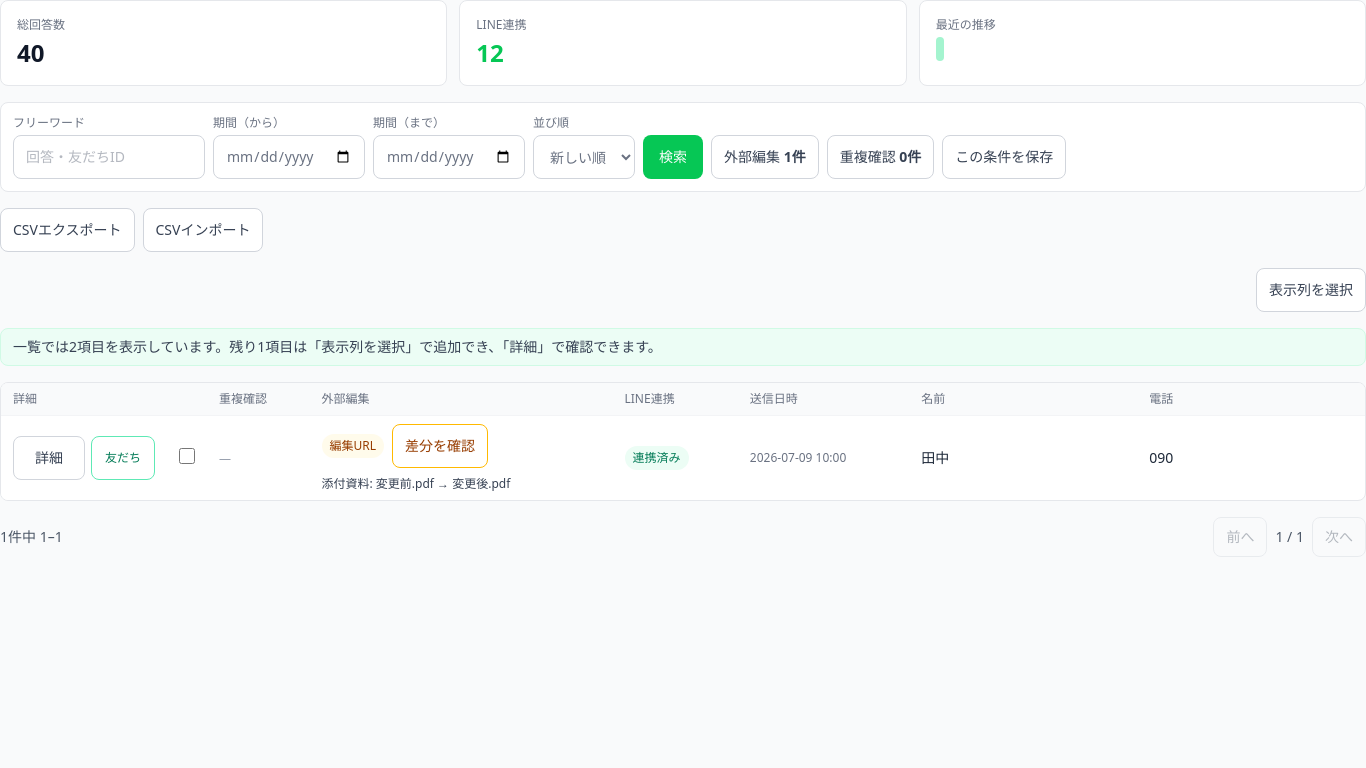
Test: DataCockpit — 外部編集レビュー (D-3) › 添付差分はファイル名だけを表示し、内部保存キーを表示しない
Click the button with aria-label "s1 の外部編集を確認" at (440, 446), box [392,424,488,468]
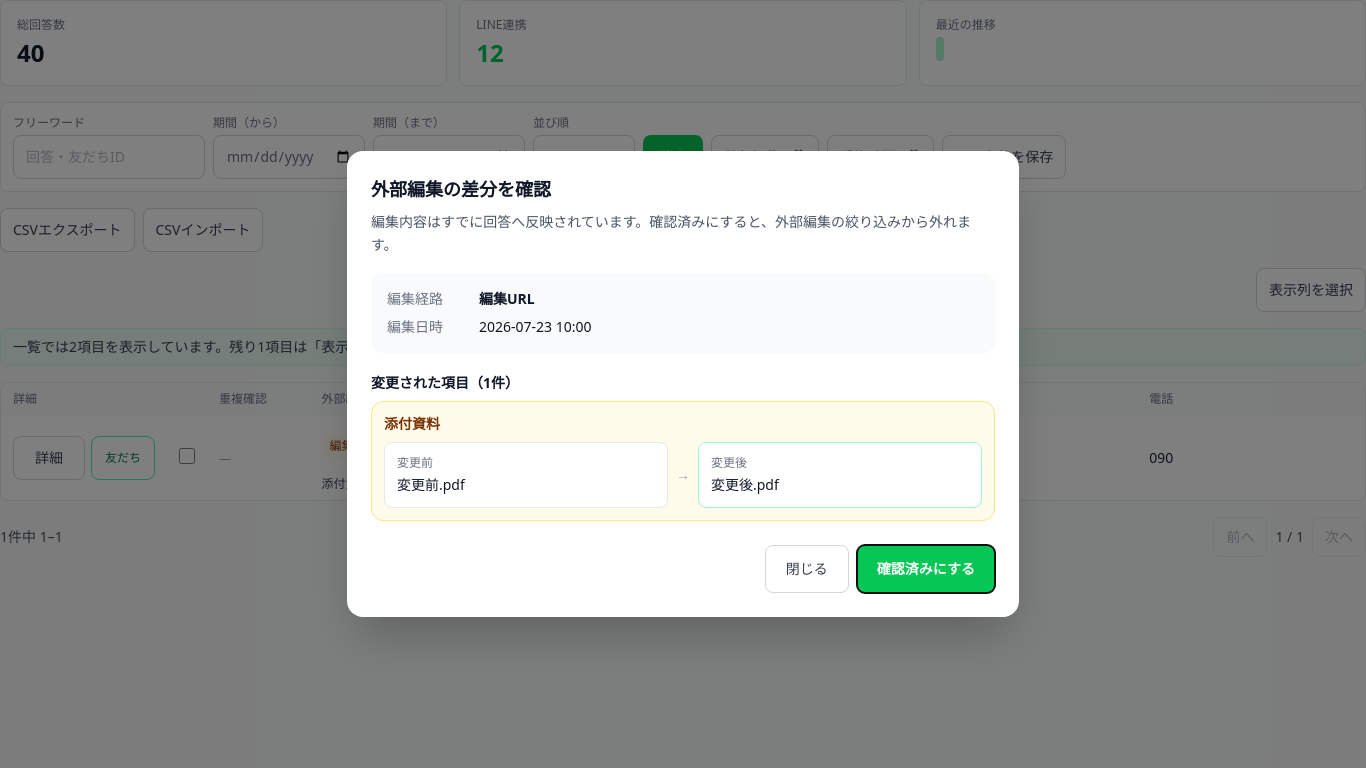
Result: the text "変更前.pdf" is shown at [397,475,465,494]
Result: the text "変更後.pdf" is shown at [711,475,779,494]
